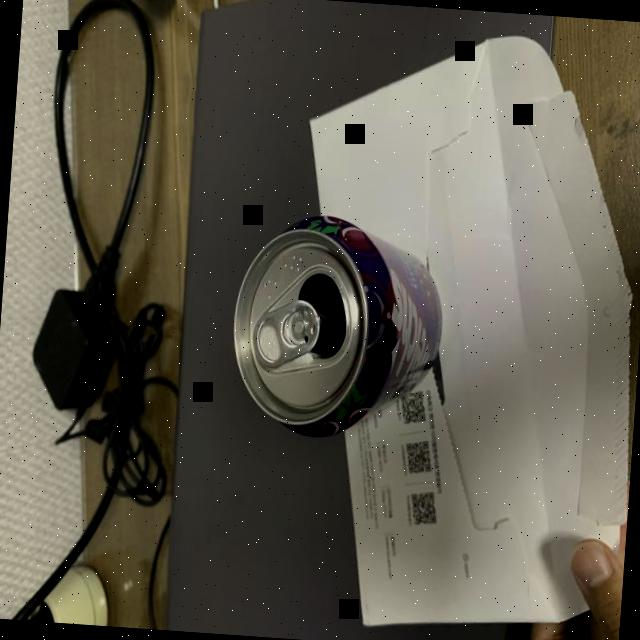can: (222, 210, 453, 452)
